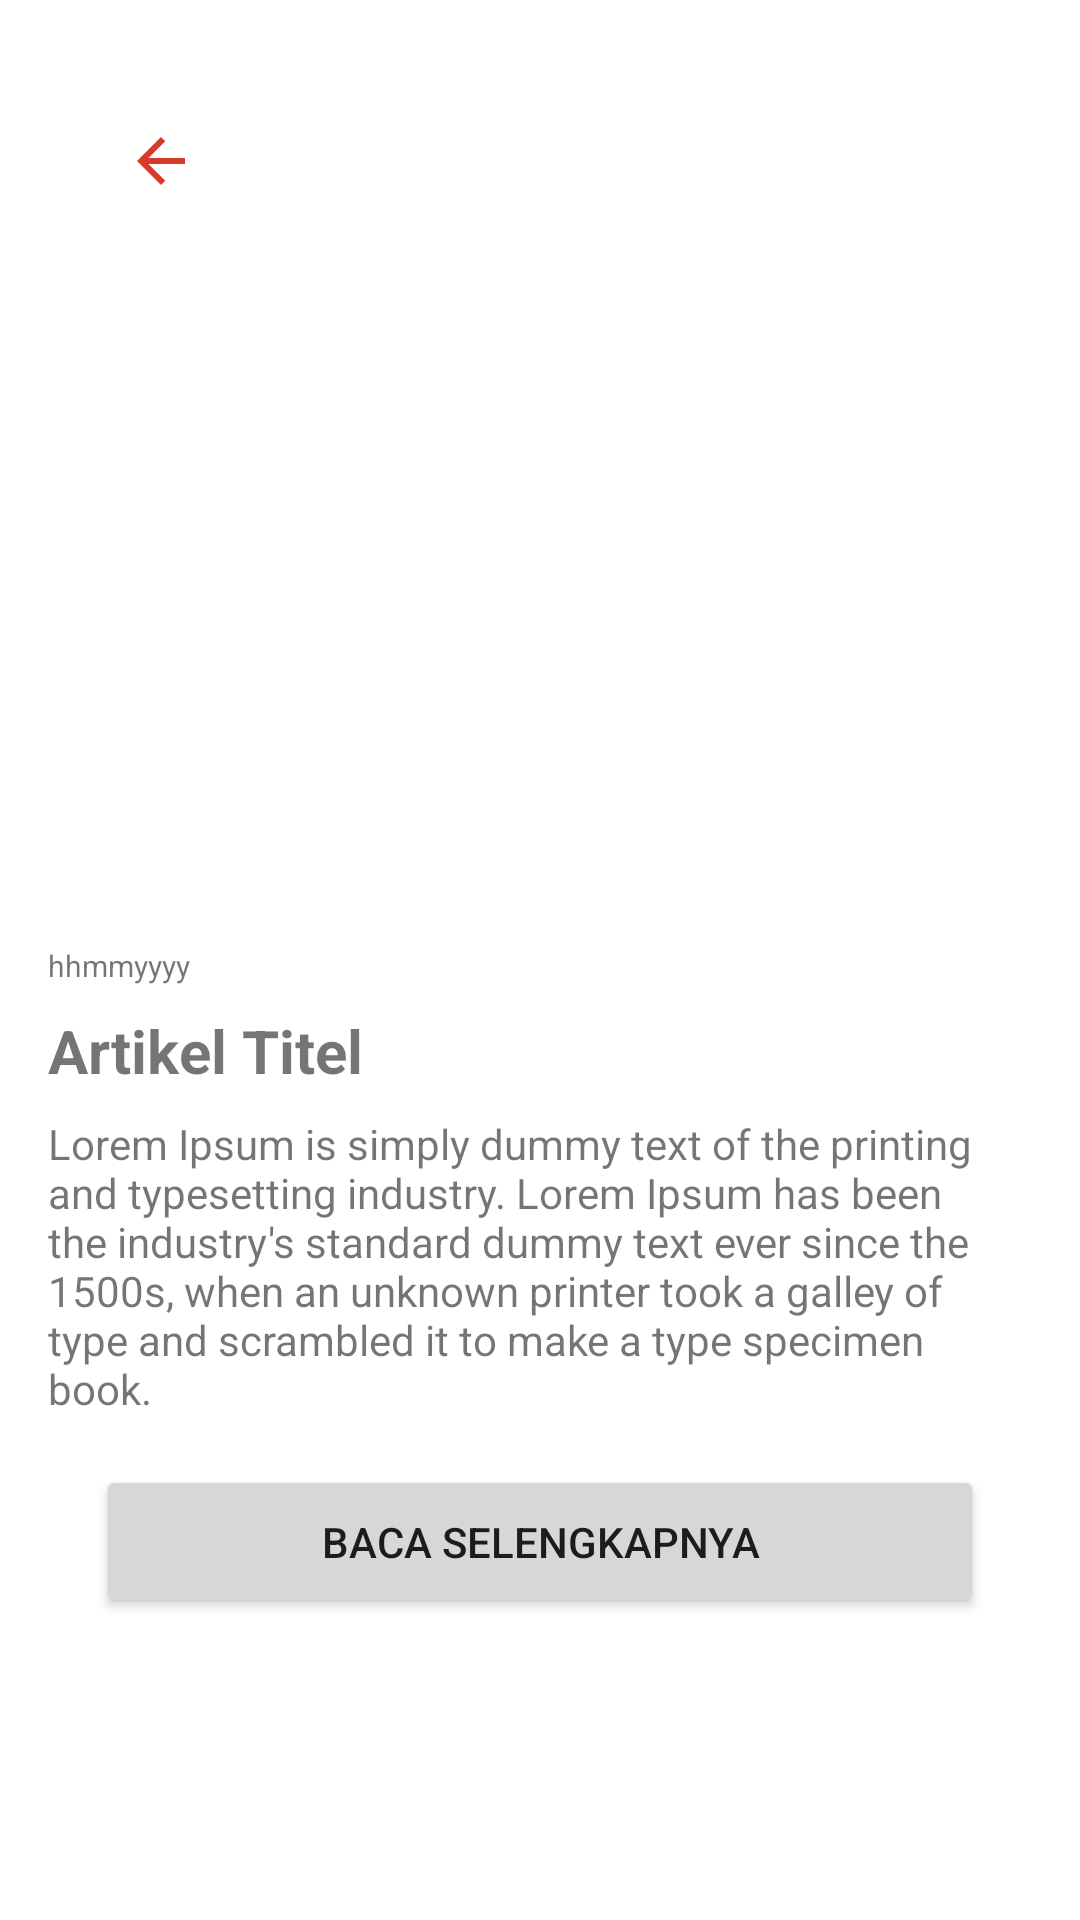

Icons on this 1080×1920 Android screen, each with the point to tap as (x,y):
arrow back: (161,161)
